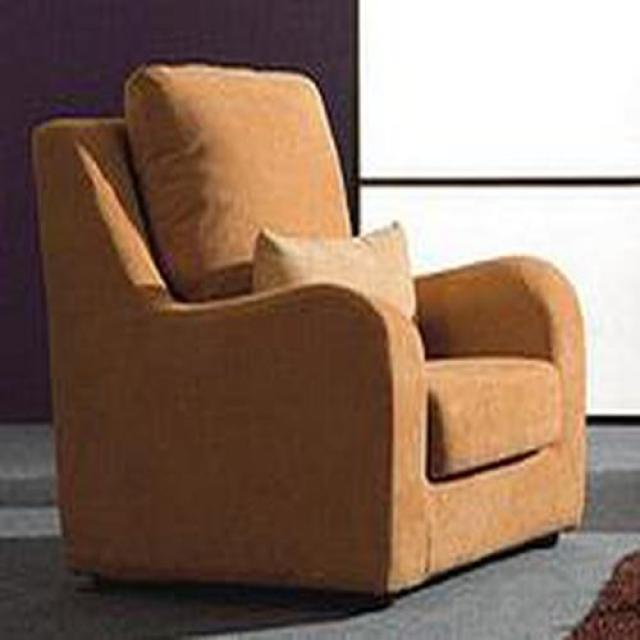sofa: (28, 63, 589, 604)
